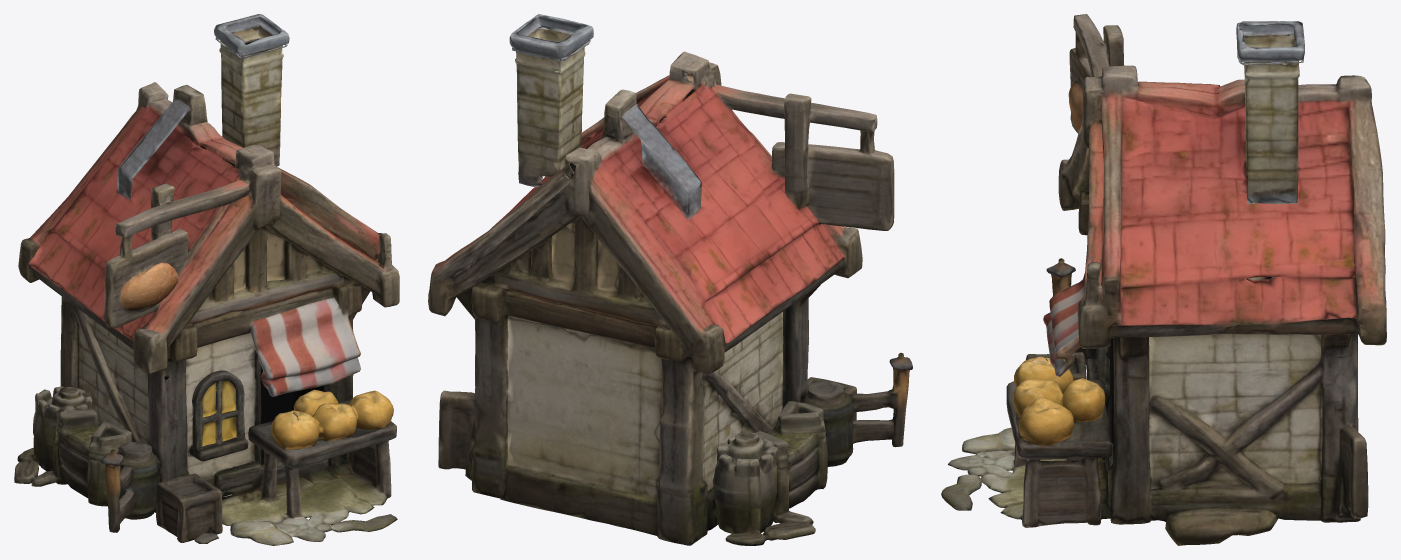
The model's file is bakery.glb.
3 views of the same model, side by side, from view 1: azimuth 30°, elevation 25°; view 2: azimuth 150°, elevation 25°; view 3: azimuth 270°, elevation 25° (orthographic). The views are drawn at different scales.
Visible parts, largest first — view 1: bakery_s7_fit; view 2: bakery_s7_fit; view 3: bakery_s7_fit.
Part boxes in pixels (x1,y1,x2,y2): bakery_s7_fit: (14,14,399,545); bakery_s7_fit: (428,14,912,545); bakery_s7_fit: (941,14,1386,545).
Bounding box in the file's own units: 3.18 × 4.08 × 3.37.
1 material, 1 textured.
